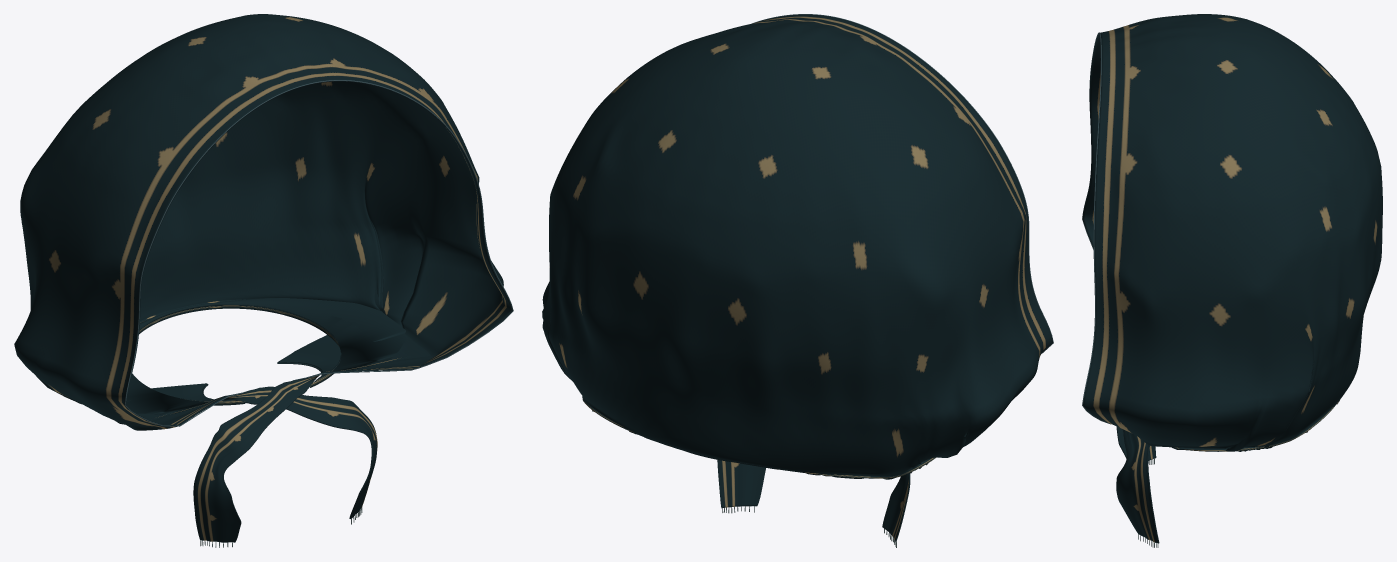
Rendered from Feminine-curls-tshirt-pashmina249-headgear.glb.
3 renders of one model, left to right at view 1: azimuth 30°, elevation 25°; view 2: azimuth 150°, elevation 25°; view 3: azimuth 270°, elevation 25°, orthographic. The views are drawn at different scales.
Parts seen in each view (by area): view 1: 226 headgear / Headwear / continuous woven pashmina239, 226 headgear / Headwear / face edge239; view 2: 226 headgear / Headwear / continuous woven pashmina239, 226 headgear / Headwear / face edge239; view 3: 226 headgear / Headwear / continuous woven pashmina239, 226 headgear / Headwear / face edge239.
Part boxes in pixels (x1,y1,x2,y2): 226 headgear / Headwear / continuous woven pashmina239: (14,14,512,542); 226 headgear / Headwear / face edge239: (125,80,513,426); 226 headgear / Headwear / continuous woven pashmina239: (542,14,1053,541); 226 headgear / Headwear / face edge239: (752,14,1053,353); 226 headgear / Headwear / continuous woven pashmina239: (1082,14,1382,543); 226 headgear / Headwear / face edge239: (1082,32,1110,424).
Size of the model in its own units: 1.34 by 1.41 by 0.804.
Materials: 3 (1 with a texture image).
